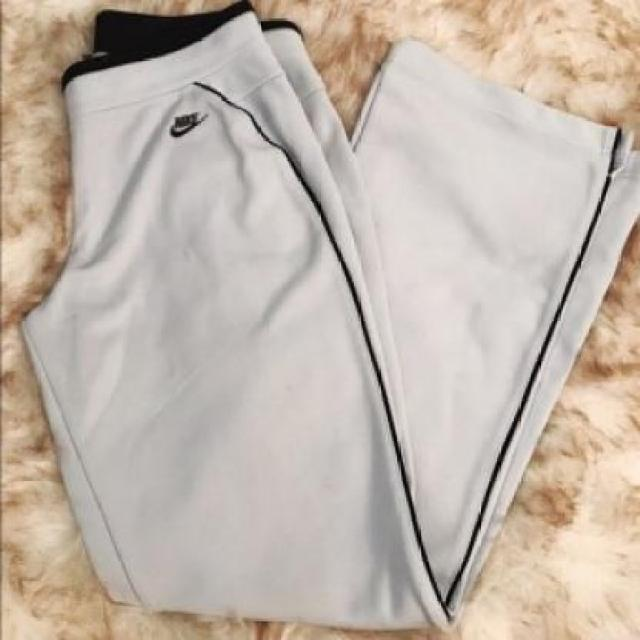Nike: (168, 109, 205, 134)
